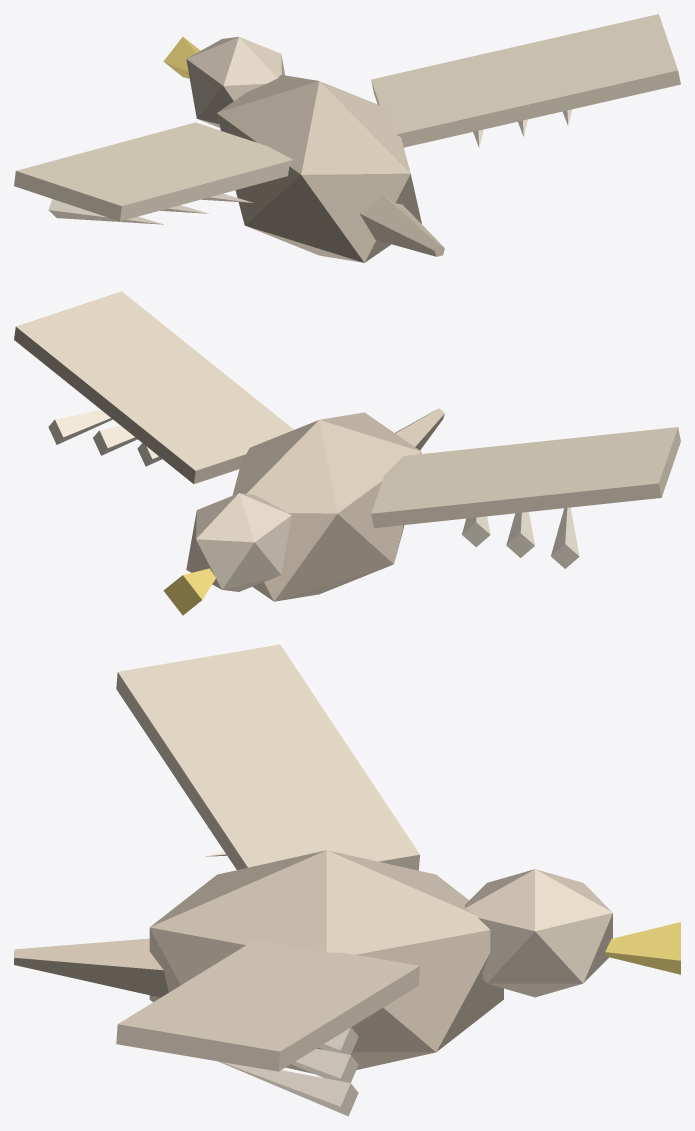
The model's file is harpy.glb.
3 renders of one model, top to bottom at view 1: azimuth 30°, elevation 25°; view 2: azimuth 150°, elevation 25°; view 3: azimuth 270°, elevation 25°, orthographic. The views are drawn at different scales.
Parts seen in each view (by area): view 1: HarpyBody; view 2: HarpyBody; view 3: HarpyBody.
Boxes of the visible parts, x1,y1,x2,y2 form: HarpyBody: (14,14,680,262); HarpyBody: (14,291,680,615); HarpyBody: (14,644,680,1116).
Bounding box in the file's own units: 2.33 × 0.6057 × 1.6.
